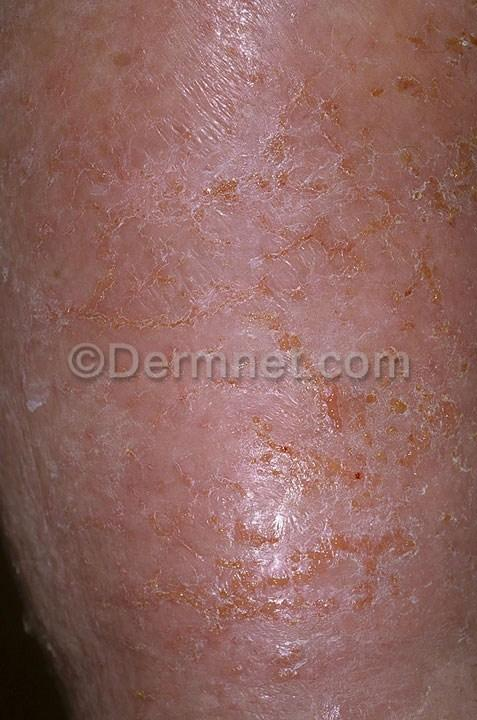Eczema: (16, 0, 477, 355), (16, 385, 459, 720)
